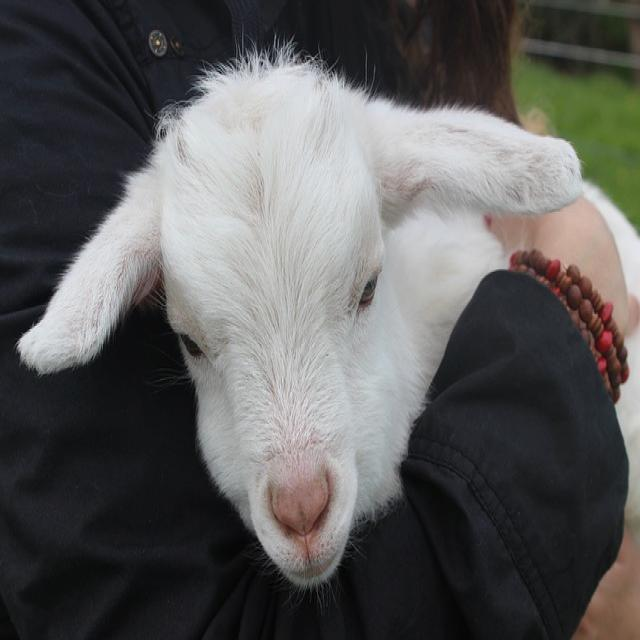goat: (16, 62, 635, 596)
